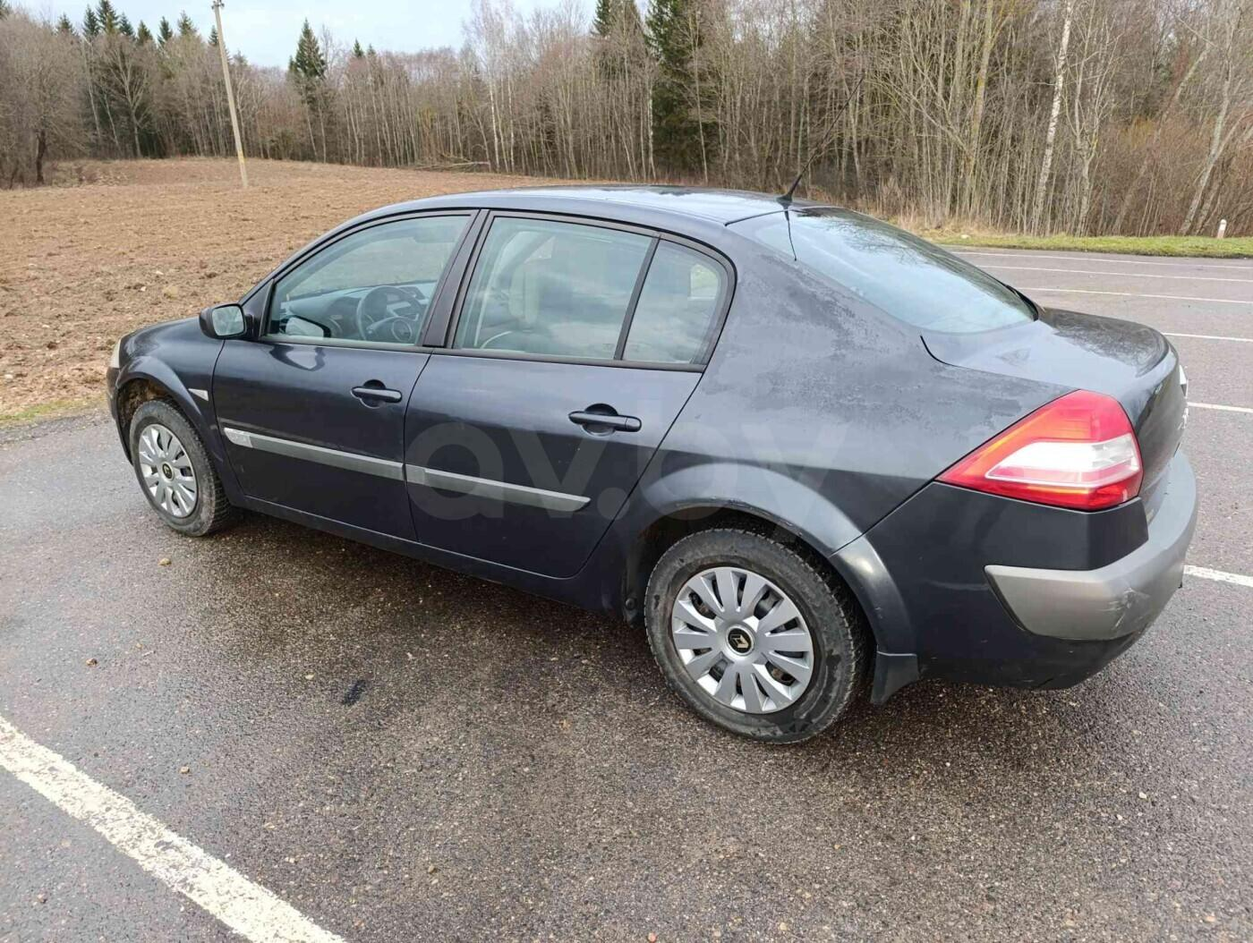Megane_2005-2009: (98, 181, 1217, 732)
